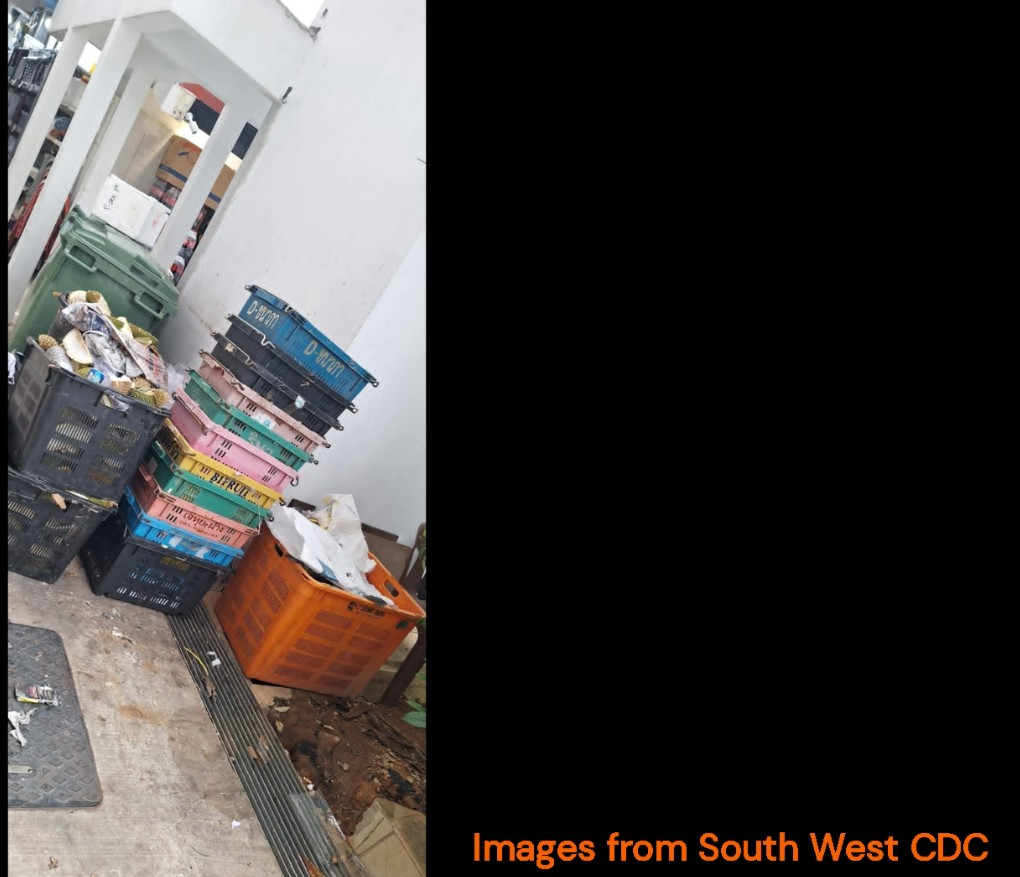bin_empty: (9, 206, 177, 346)
bulk_waste: (215, 495, 423, 695), (9, 295, 172, 504), (212, 315, 355, 434), (239, 287, 377, 401), (80, 516, 224, 614), (199, 352, 329, 452), (185, 370, 314, 470), (170, 393, 297, 492), (8, 466, 111, 583), (142, 441, 271, 529), (157, 420, 282, 509), (129, 467, 257, 549), (120, 487, 241, 568)
